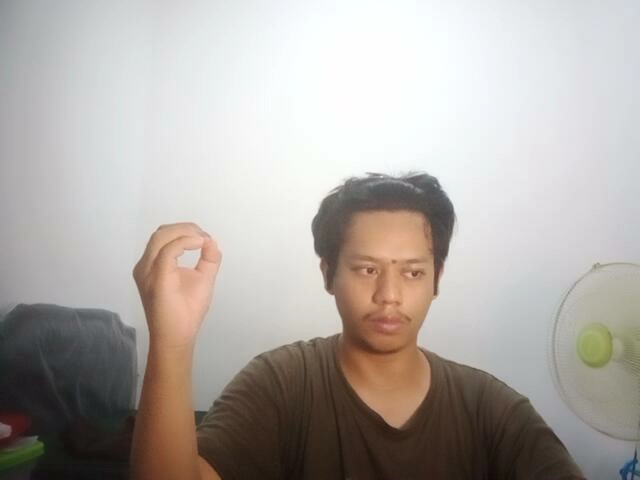O: (122, 217, 234, 331)
